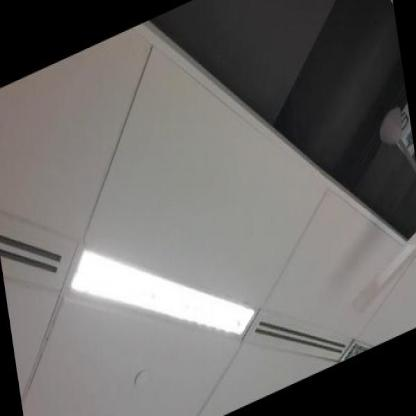light_on: (60, 164, 270, 414)
